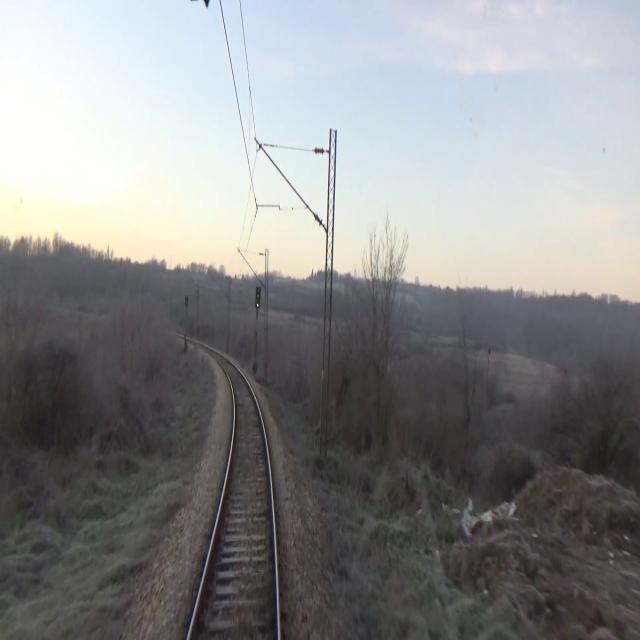rail-track: (190, 355, 275, 639)
